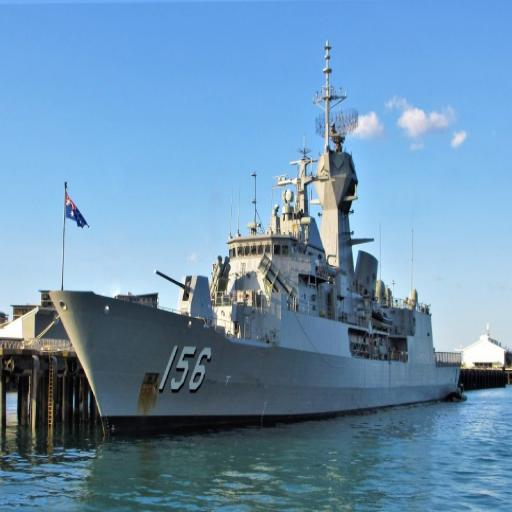Fragata: (45, 32, 468, 450)
